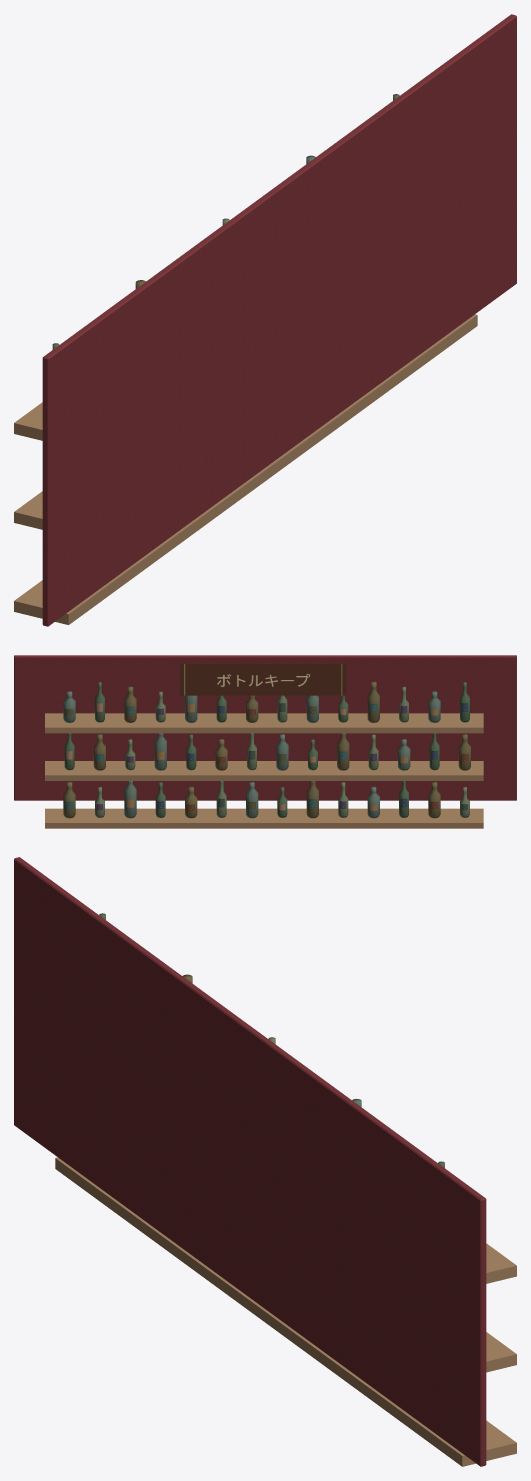
Rendered from yokocho-bottle-keep-wall.glb.
3 renders of one model, top to bottom at view 1: azimuth 30°, elevation 25°; view 2: azimuth 150°, elevation 25°; view 3: azimuth 270°, elevation 25°, orthographic. The views are drawn at different scales.
Visible parts, largest first — view 1: Shops/S04/Personality/BottleKeepWall__Night_WineUpholstery, Shops/S04/Personality/BottleKeepWall__Night_Walnut; view 2: Shops/S04/Personality/BottleKeepWall__Night_WineUpholstery, Shops/S04/Personality/BottleKeepWall__Night_Walnut, Shops/S04/Personality/BottleKeepWall__Night_SmokyGlass, Shops/S04/Personality/BottleKeepWall__Night_Print; view 3: Shops/S04/Personality/BottleKeepWall__Night_WineUpholstery, Shops/S04/Personality/BottleKeepWall__Night_Walnut.
Part boxes in pixels (x1,y1,x2,y2): Shops/S04/Personality/BottleKeepWall__Night_WineUpholstery: (42,14,516,626); Shops/S04/Personality/BottleKeepWall__Night_Walnut: (14,314,477,624); Shops/S04/Personality/BottleKeepWall__Night_WineUpholstery: (14,655,516,800); Shops/S04/Personality/BottleKeepWall__Night_Walnut: (45,713,483,828); Shops/S04/Personality/BottleKeepWall__Night_SmokyGlass: (63,681,470,818); Shops/S04/Personality/BottleKeepWall__Night_Print: (65,664,468,810); Shops/S04/Personality/BottleKeepWall__Night_WineUpholstery: (14,857,486,1466); Shops/S04/Personality/BottleKeepWall__Night_Walnut: (55,1157,516,1466).
Size of the model in its own units: 3.74 by 1.56 by 2.32.
4 materials, 2 textured.
